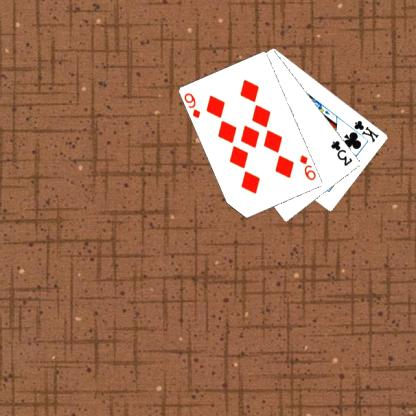3C: (328, 138, 354, 167)
9D: (297, 152, 317, 182), (182, 90, 202, 120)
KC: (346, 117, 380, 144)
